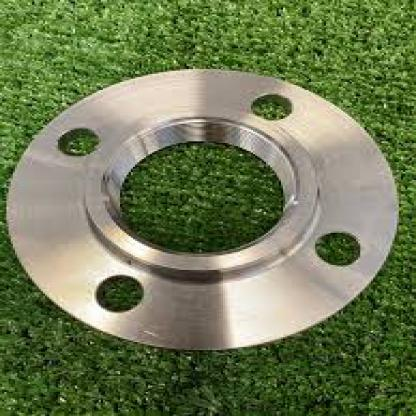FOD: (9, 59, 401, 360)
